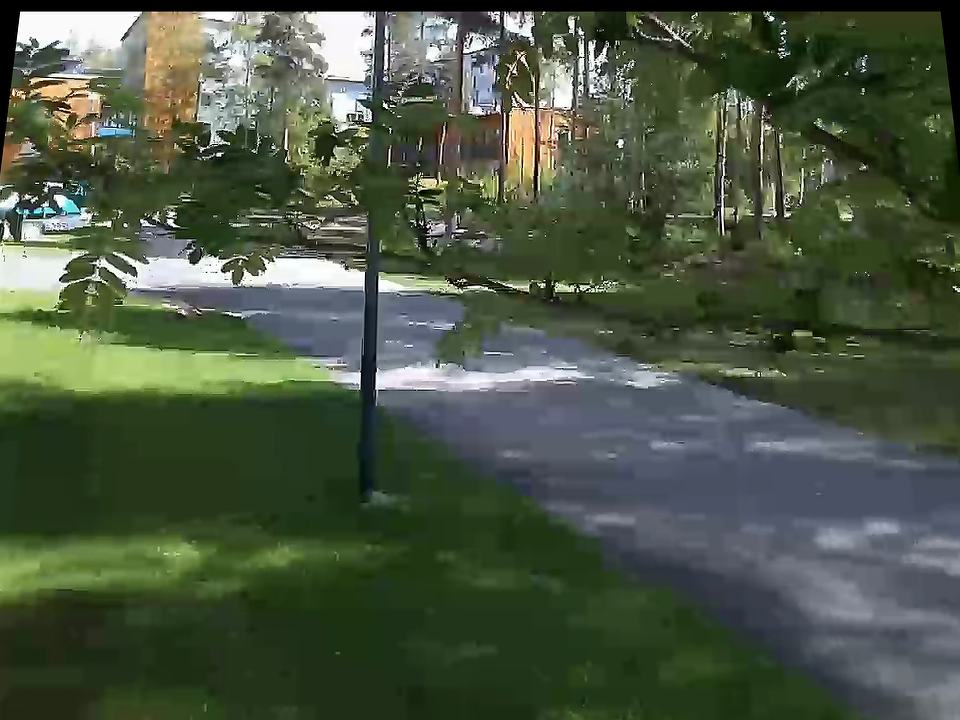branch: (312, 226, 943, 357)
